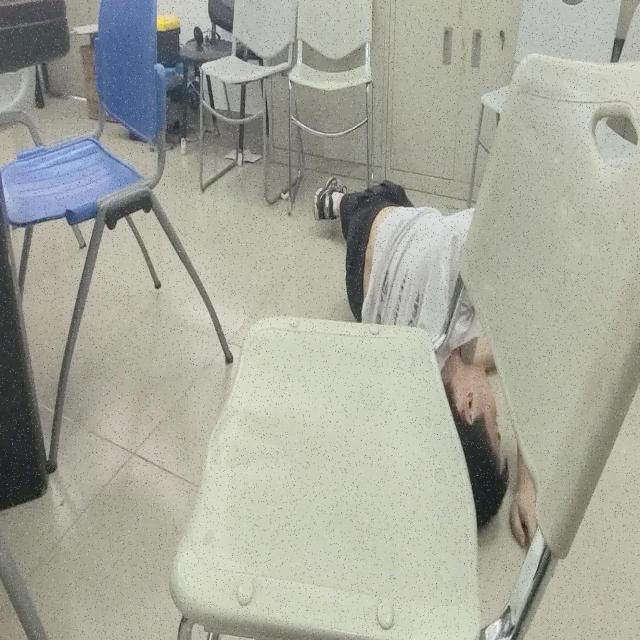fall: (312, 170, 550, 550)
